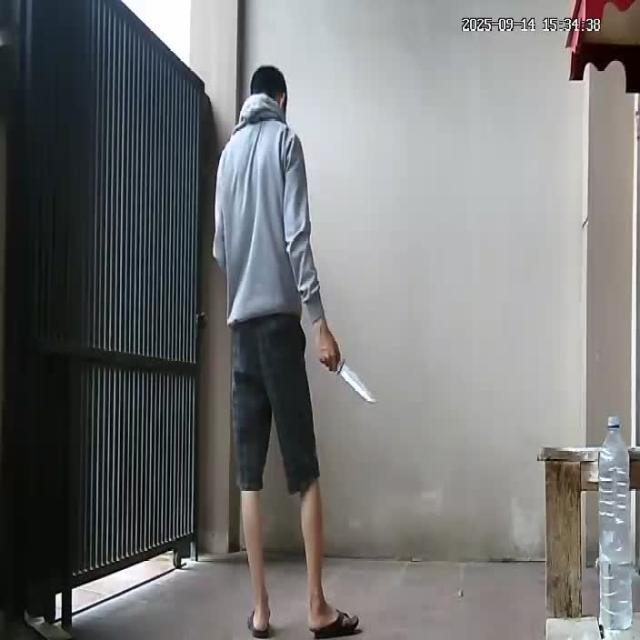senjata_tajam: (336, 357, 378, 406)
